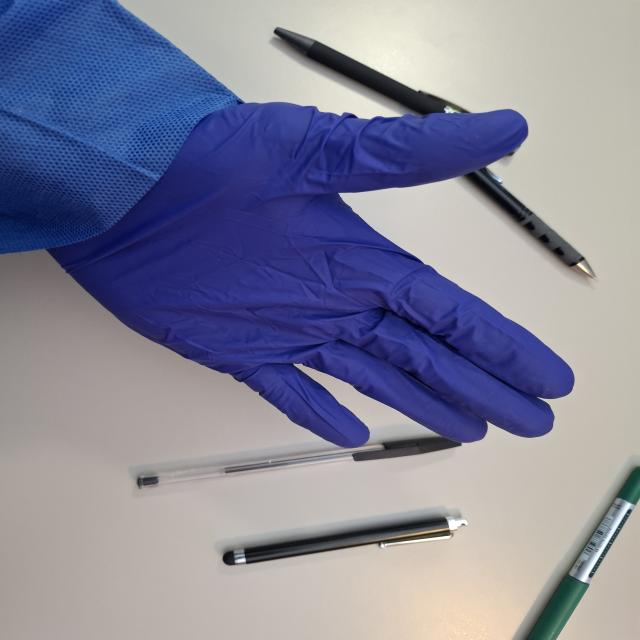glove_on: (44, 100, 579, 450)
